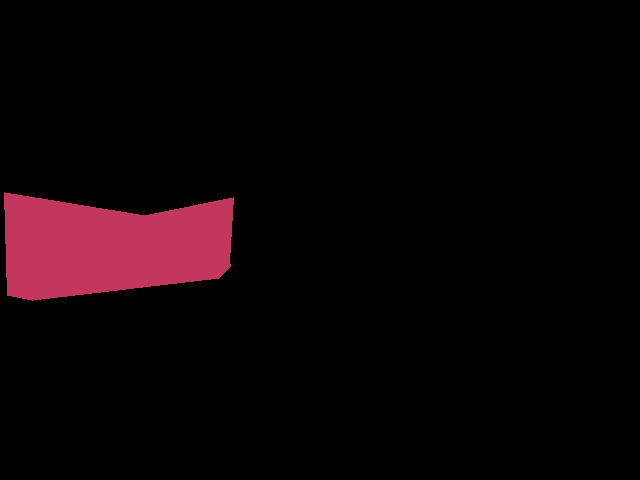Airplane: (4, 192, 234, 300)
